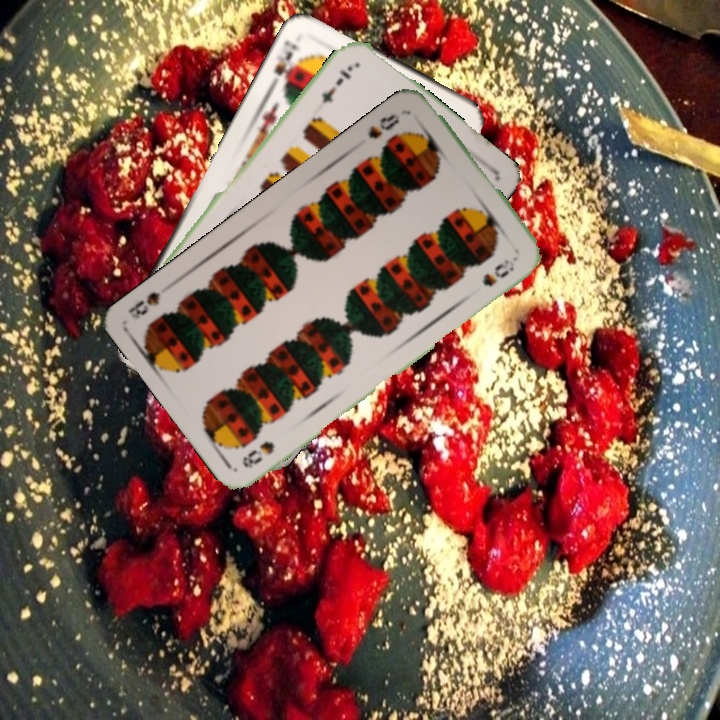E7: (317, 61, 356, 107)
S8: (238, 437, 278, 471), (363, 109, 402, 142)
SK: (269, 35, 303, 92)
